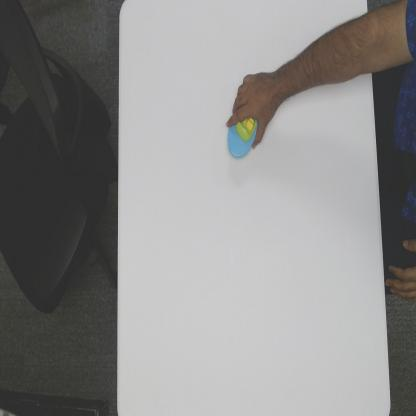Arm: (276, 14, 370, 104)
Boat: (226, 115, 258, 160)
Hand: (226, 70, 277, 151)
